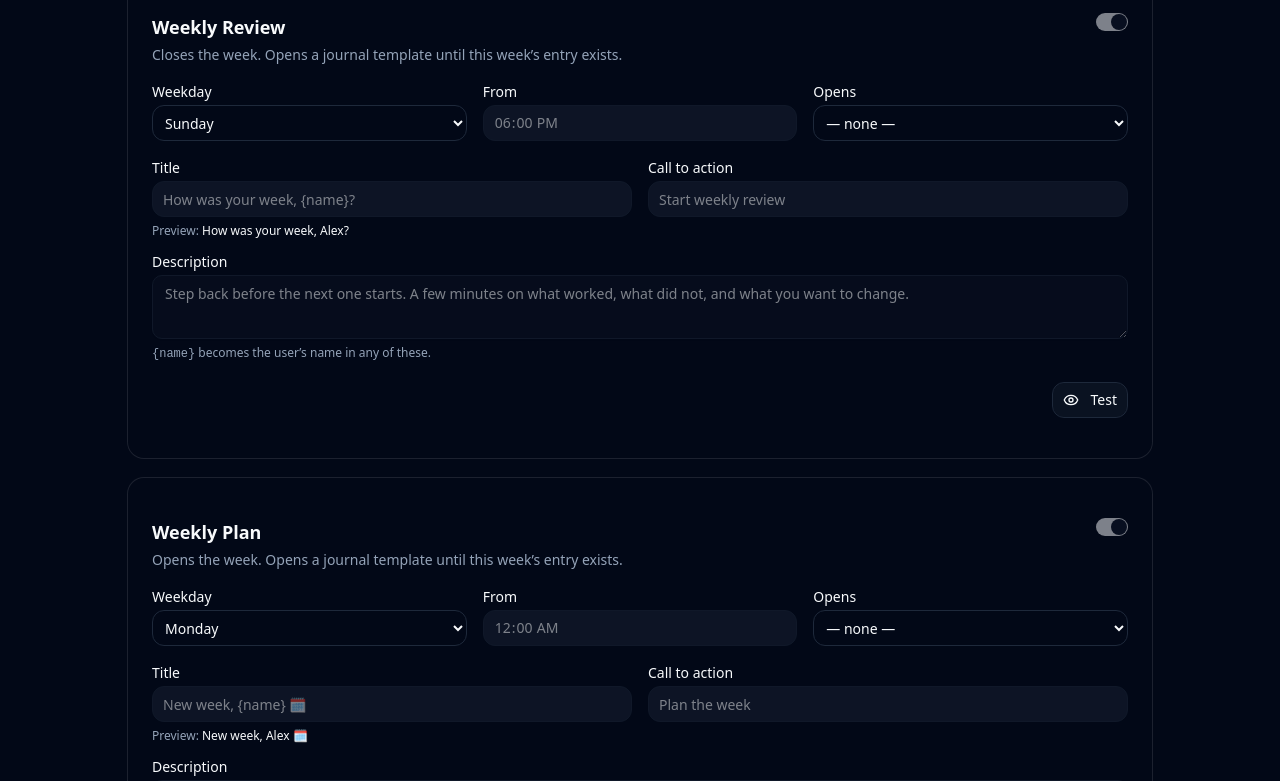
Test: RitualsHub preview › lets an allowlist admin preview even though they cannot save
The image size is (1280, 781).
(page scrolled)
Click the button named "preview": click(1090, 400) left=1052, top=382, right=1128, bottom=418
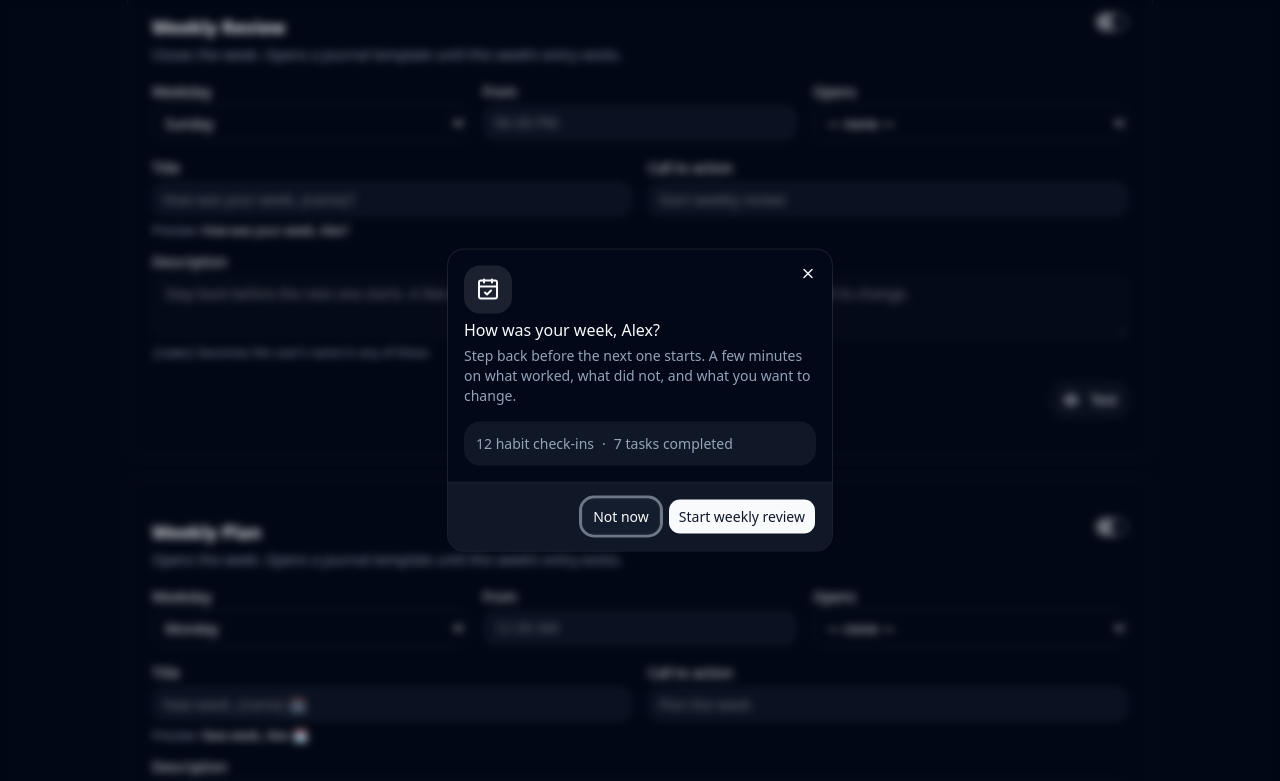
expect the heading "How was your week, Alex?" is shown: met, box left=464, top=318, right=660, bottom=340
